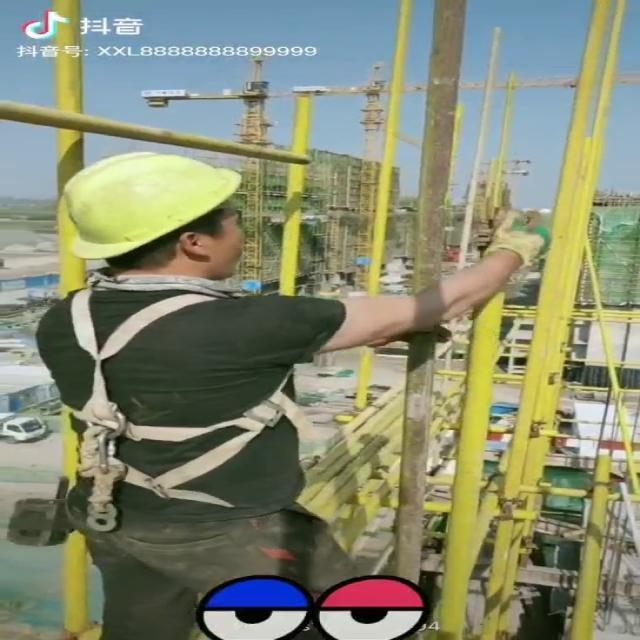Arnes_seguridad: (31, 269, 312, 537)
